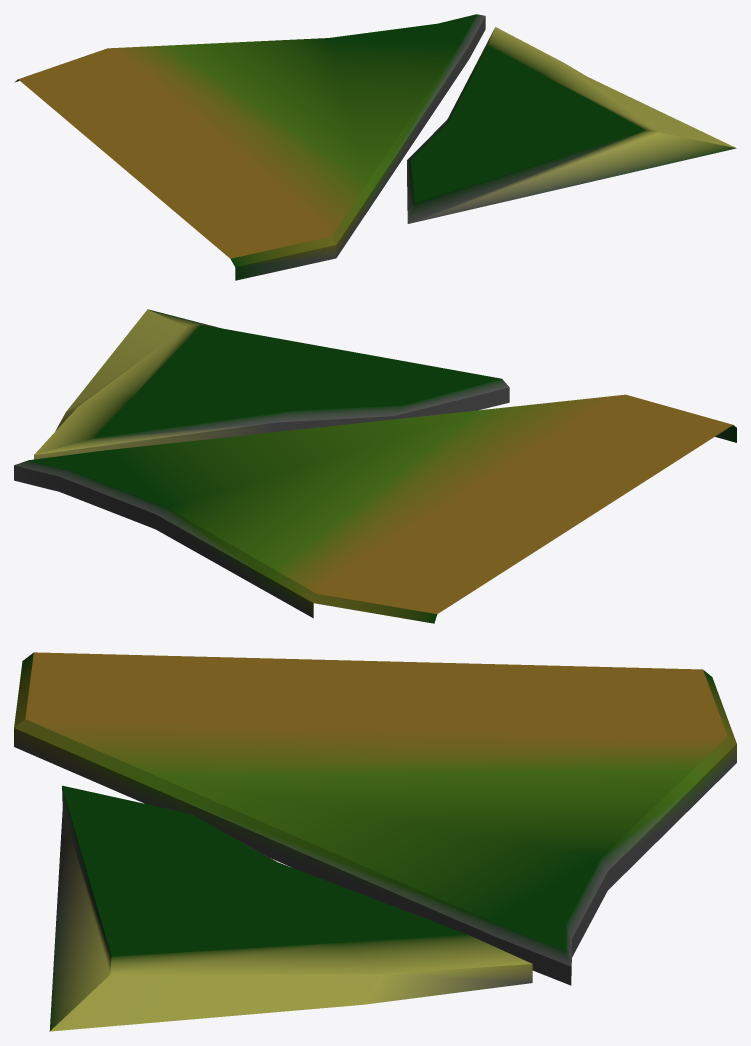
File: e_mainland.fbx
3 renders of one model, top to bottom at view 1: azimuth 30°, elevation 25°; view 2: azimuth 150°, elevation 25°; view 3: azimuth 270°, elevation 25°, orthographic. The views are drawn at different scales.
Parts seen in each view (by area): view 1: e_mainland; view 2: e_mainland; view 3: e_mainland.
Boxes of the visible parts, x1,y1,x2,y2 form: e_mainland: (14, 14, 736, 280); e_mainland: (14, 309, 736, 623); e_mainland: (14, 652, 736, 1031).
Size of the model in its own units: 297 by 10.97 by 257.
